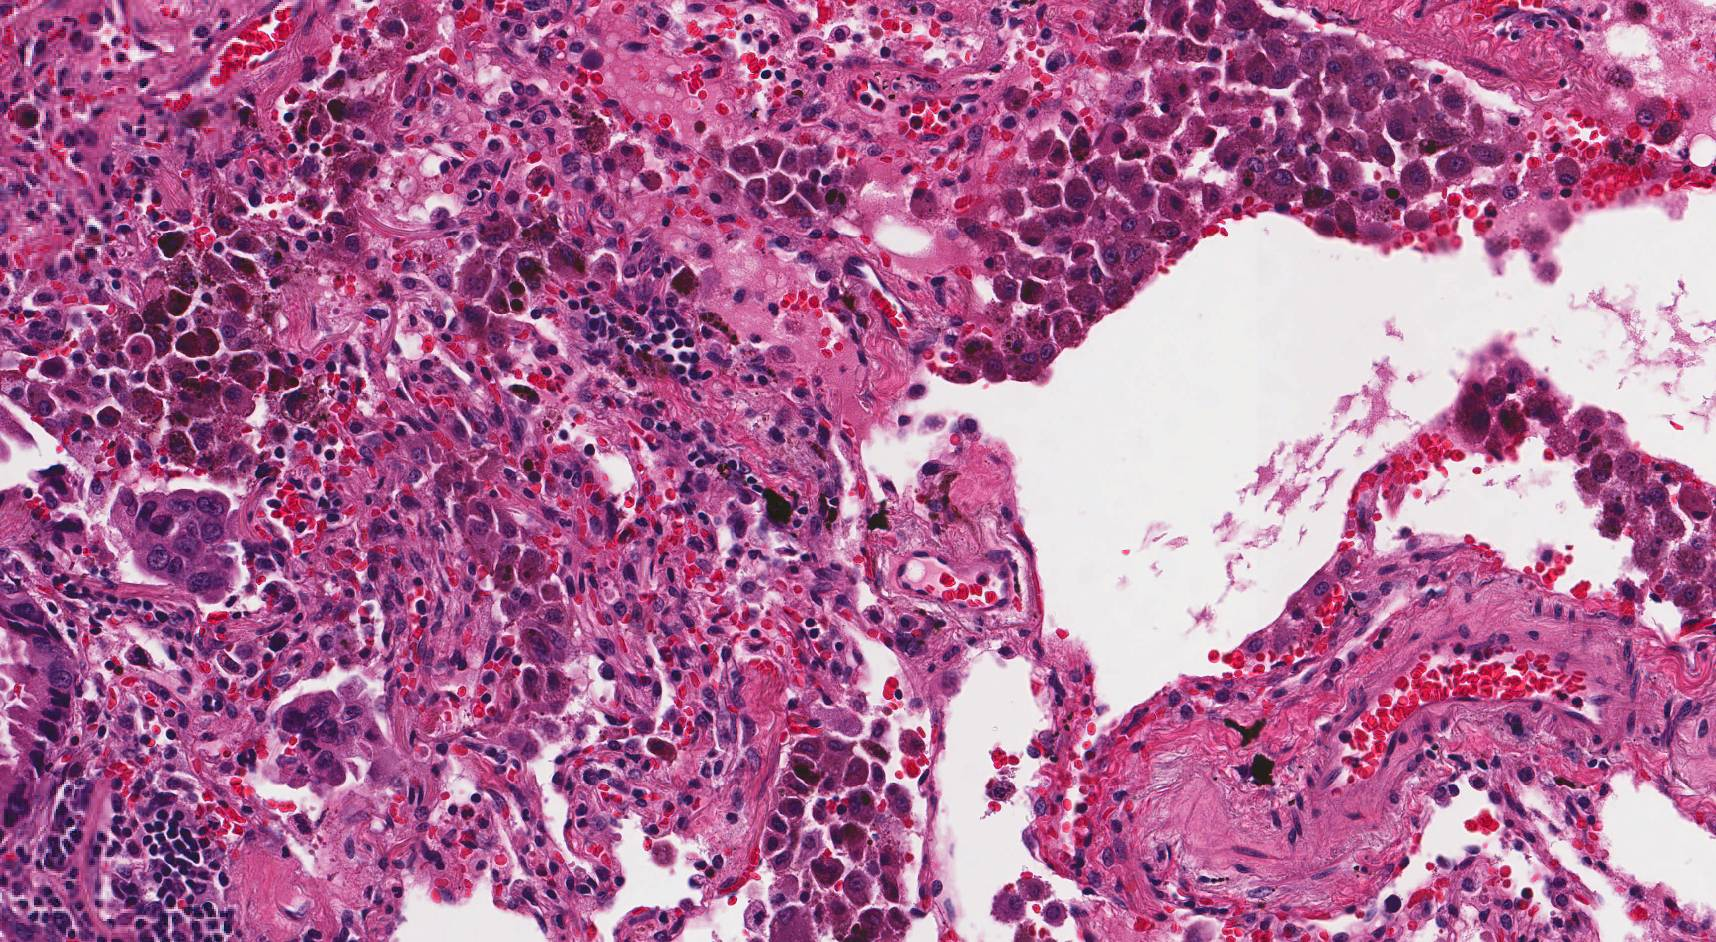stas: (112, 485, 242, 604), (271, 689, 358, 793)
